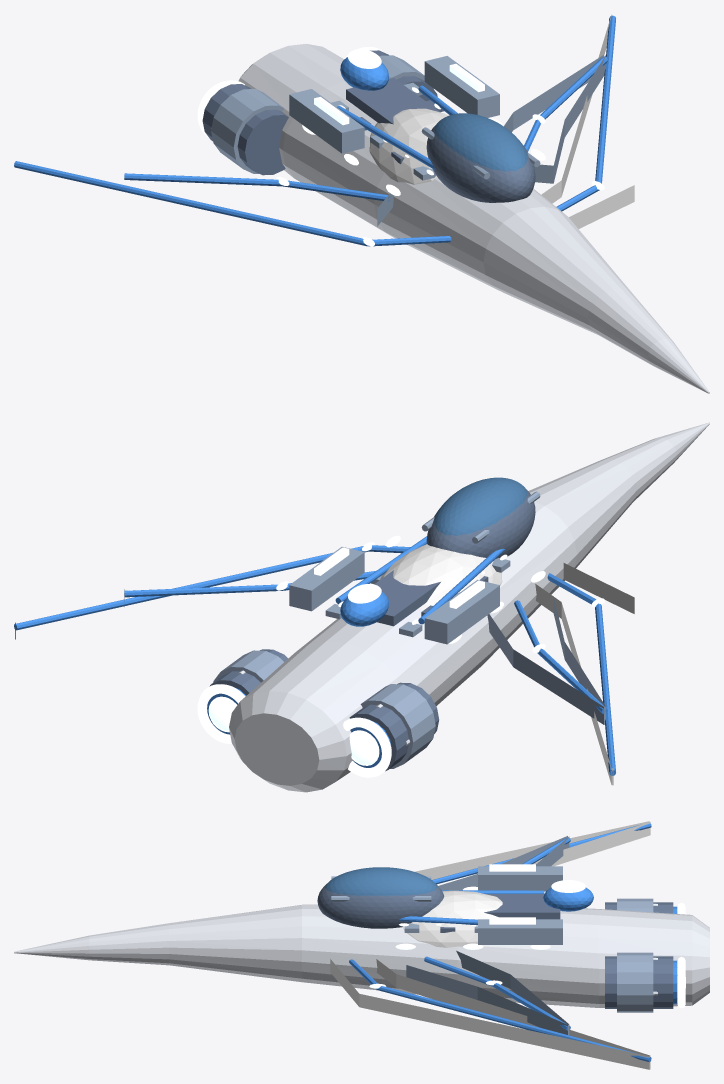
Rendered from SL_PATHFINDER_FINAL.glb.
The picture shows the model from 3 angles, top to bottom: view 1: azimuth 30°, elevation 25°; view 2: azimuth 150°, elevation 25°; view 3: azimuth 270°, elevation 25°; orthographic projection. The views are drawn at different scales.
Parts seen in each view (by area): view 1: PATHFINDER_hull, PATHFINDER_steel, PATHFINDER_dark, PATHFINDER_accent, PATHFINDER_ivory, PATHFINDER_glass, PATHFINDER_neon, PATHFINDER_hot; view 2: PATHFINDER_hull, PATHFINDER_steel, PATHFINDER_accent, PATHFINDER_dark, PATHFINDER_ivory, PATHFINDER_neon, PATHFINDER_glass, PATHFINDER_hot; view 3: PATHFINDER_hull, PATHFINDER_ivory, PATHFINDER_steel, PATHFINDER_dark, PATHFINDER_accent, PATHFINDER_glass, PATHFINDER_neon, PATHFINDER_hot.
Boxes of the visible parts, bbox=[...] form: PATHFINDER_hull: bbox=[211, 44, 709, 393]; PATHFINDER_steel: bbox=[211, 55, 605, 226]; PATHFINDER_dark: bbox=[202, 50, 535, 202]; PATHFINDER_accent: bbox=[14, 15, 615, 246]; PATHFINDER_ivory: bbox=[369, 14, 634, 228]; PATHFINDER_glass: bbox=[434, 113, 527, 171]; PATHFINDER_neon: bbox=[276, 49, 604, 246]; PATHFINDER_hot: bbox=[197, 47, 440, 175]; PATHFINDER_hull: bbox=[229, 422, 709, 792]; PATHFINDER_steel: bbox=[124, 491, 605, 768]; PATHFINDER_accent: bbox=[14, 536, 615, 775]; PATHFINDER_dark: bbox=[209, 489, 535, 771]; PATHFINDER_ivory: bbox=[15, 544, 634, 785]; PATHFINDER_neon: bbox=[208, 535, 604, 765]; PATHFINDER_glass: bbox=[434, 477, 527, 535]; PATHFINDER_hot: bbox=[197, 554, 507, 777]; PATHFINDER_hull: bbox=[14, 903, 709, 1007]; PATHFINDER_ivory: bbox=[330, 821, 650, 1069]; PATHFINDER_steel: bbox=[331, 836, 653, 1035]; PATHFINDER_dark: bbox=[317, 884, 673, 1008]; PATHFINDER_accent: bbox=[349, 823, 677, 1062]; PATHFINDER_glass: bbox=[324, 867, 437, 896]; PATHFINDER_neon: bbox=[369, 864, 685, 988]; PATHFINDER_hot: bbox=[399, 903, 685, 1008].
Bounding box in the file's own units: 6.39 × 1.65 × 7.95.
